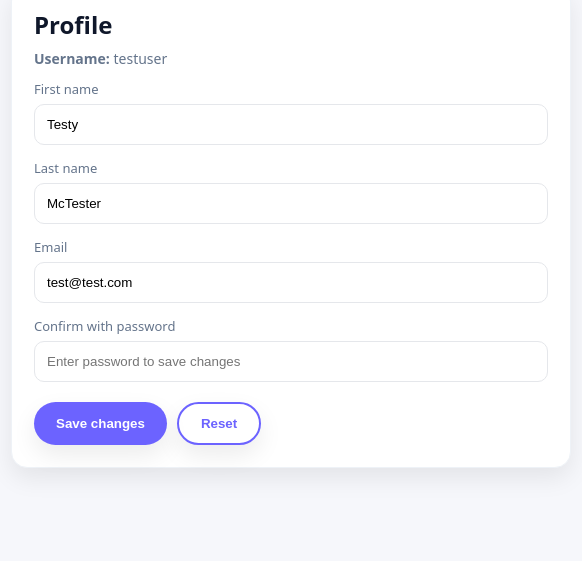
Scenario: submits updated profile and shows success
Replace the text in the field labelled "First name" with "Updated". click: (291, 124)
box: [34,104,548,145]
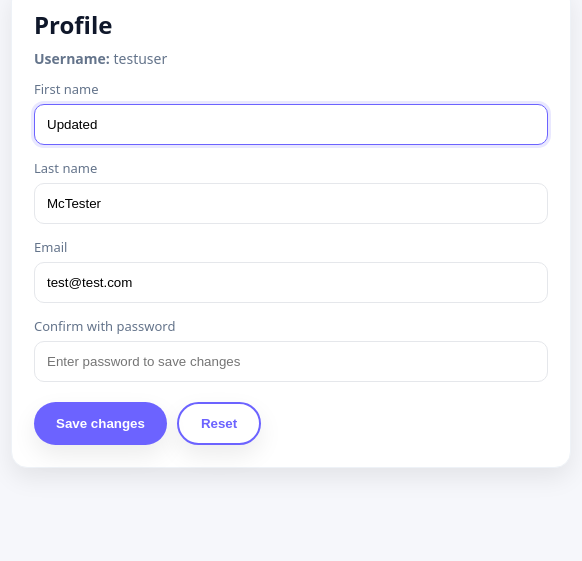
Type "password123" into the password field labelled "Confirm with password". click: (291, 362)
box: [34,341,548,382]
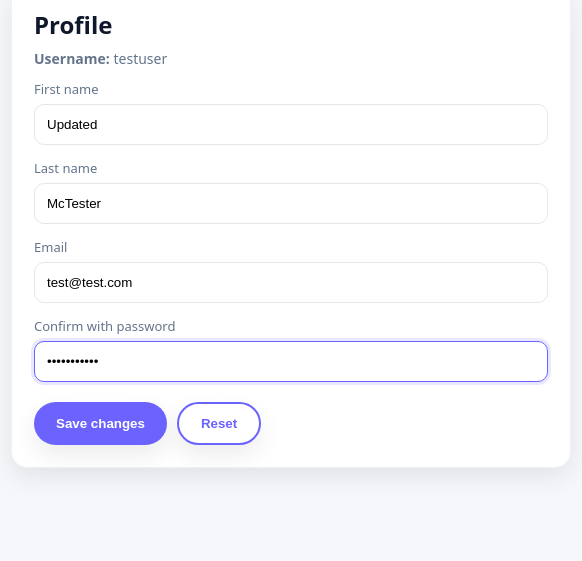
Click the button "Save changes". click: (100, 424)
box: [34,402,167,445]
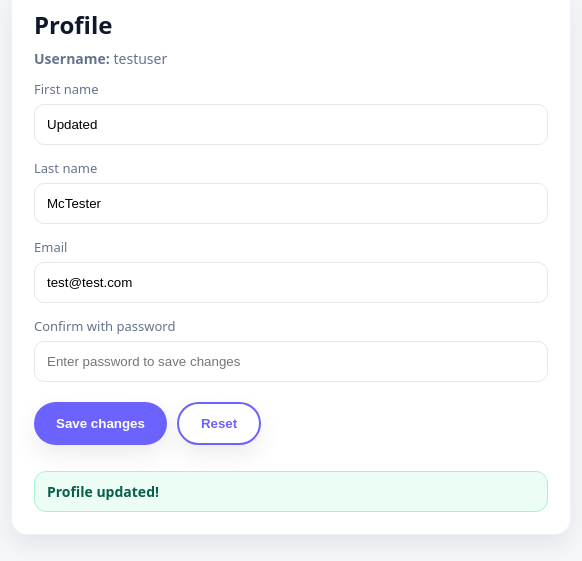
Now the text "Profile updated!" is shown, box [34,471,548,512]
